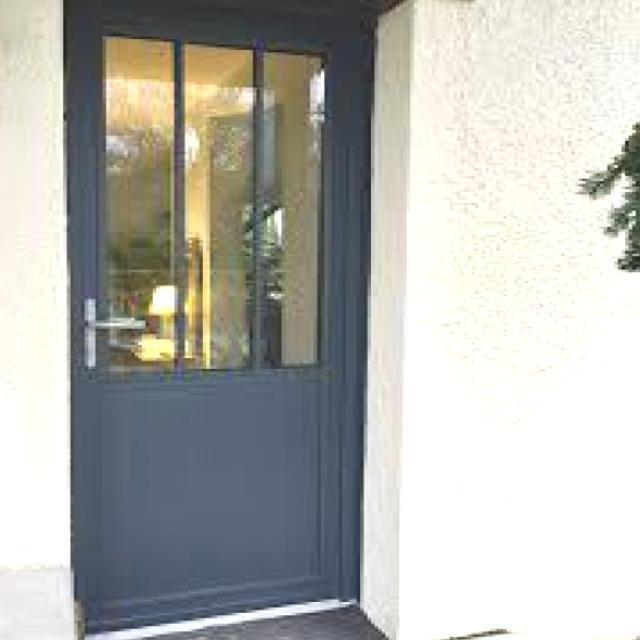door: (65, 6, 372, 634)
